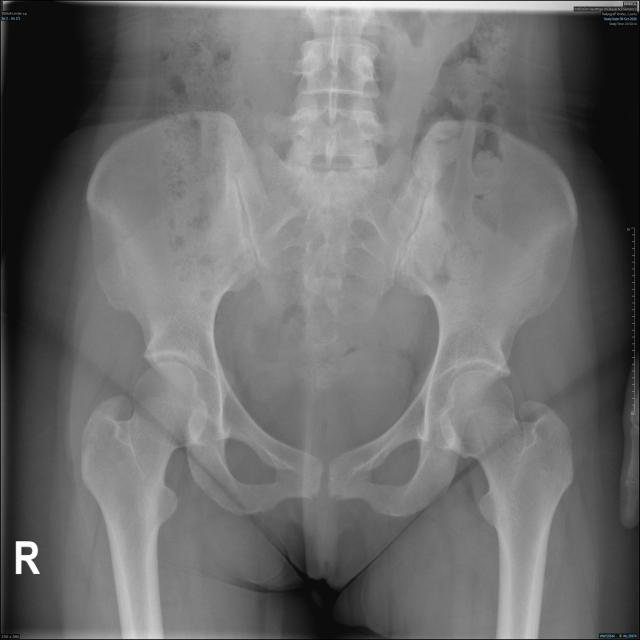normal-left: (439, 369, 574, 595)
normal-right: (81, 360, 208, 590)
